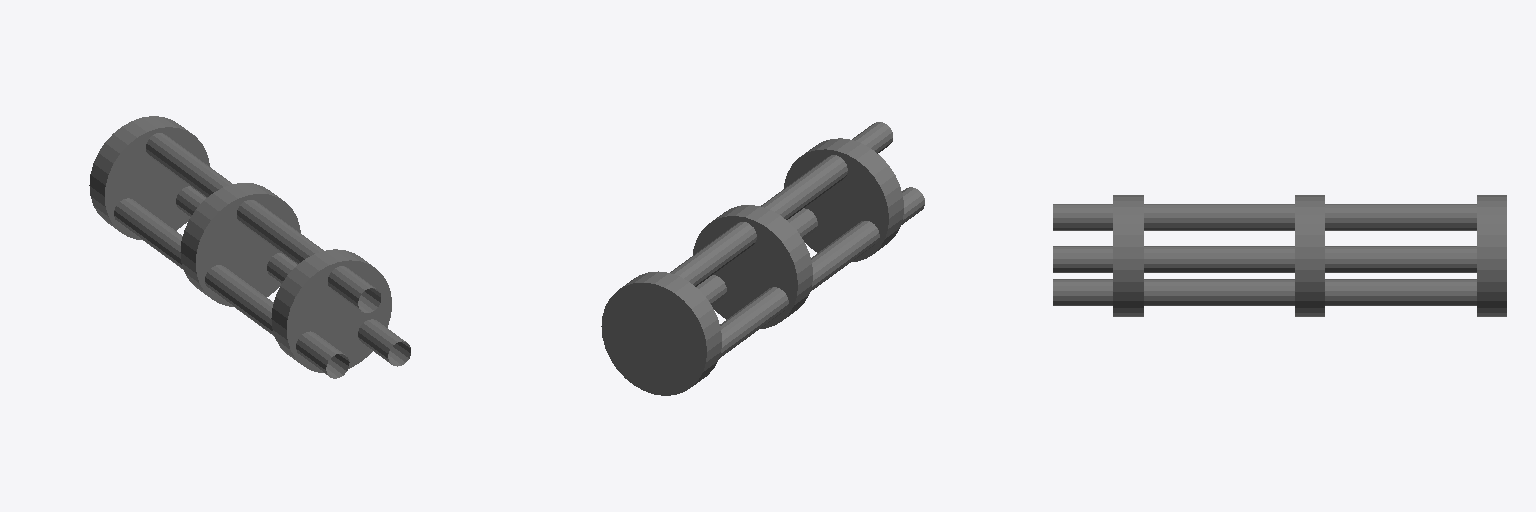
The model's file is gun.obj.
The picture shows the model from 3 angles: view 1: azimuth 30°, elevation 25°; view 2: azimuth 150°, elevation 25°; view 3: azimuth 270°, elevation 25°; orthographic projection.
Size of the model in its own units: 0.201 by 0.201 by 0.75.